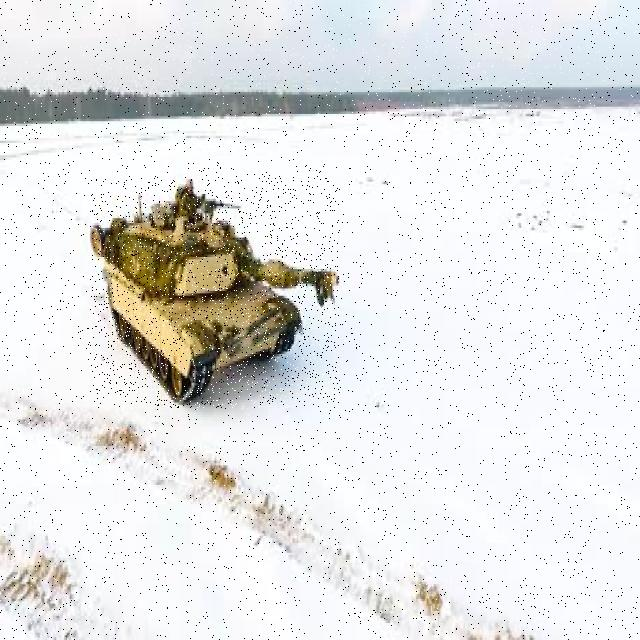MIL_MBT: (90, 176, 339, 408)
